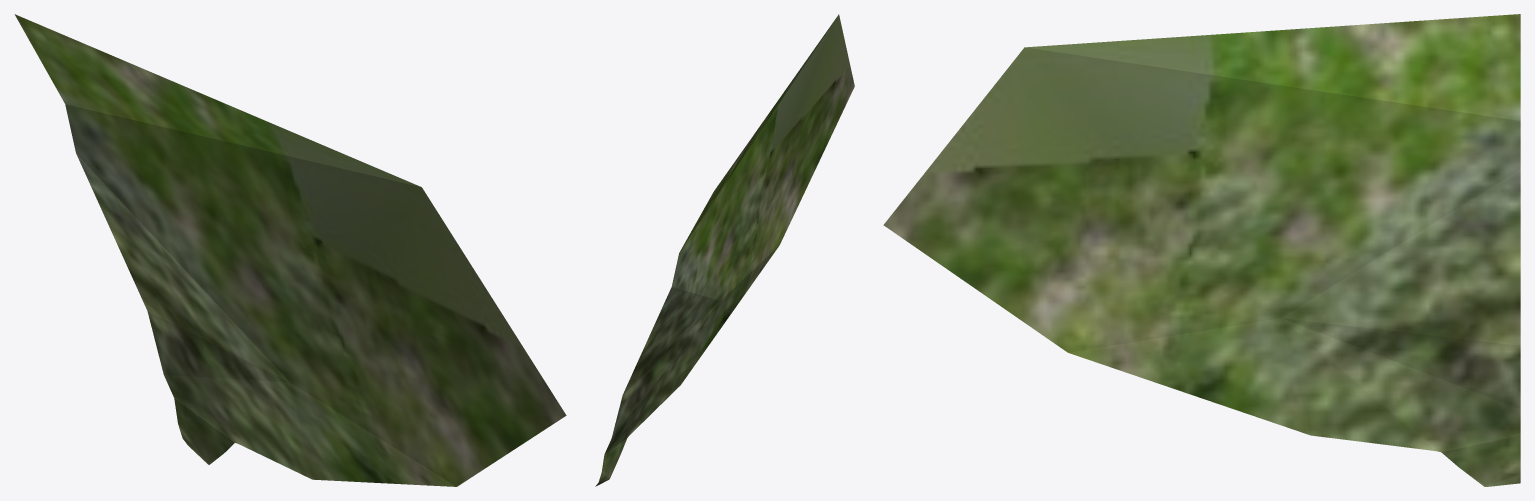
3 renders of one model, left to right at view 1: azimuth 30°, elevation 25°; view 2: azimuth 150°, elevation 25°; view 3: azimuth 270°, elevation 25°, orthographic. The views are drawn at different scales.
Size of the model in its own units: 3.88 by 10.56 by 14.7.
1 material, 1 textured.
